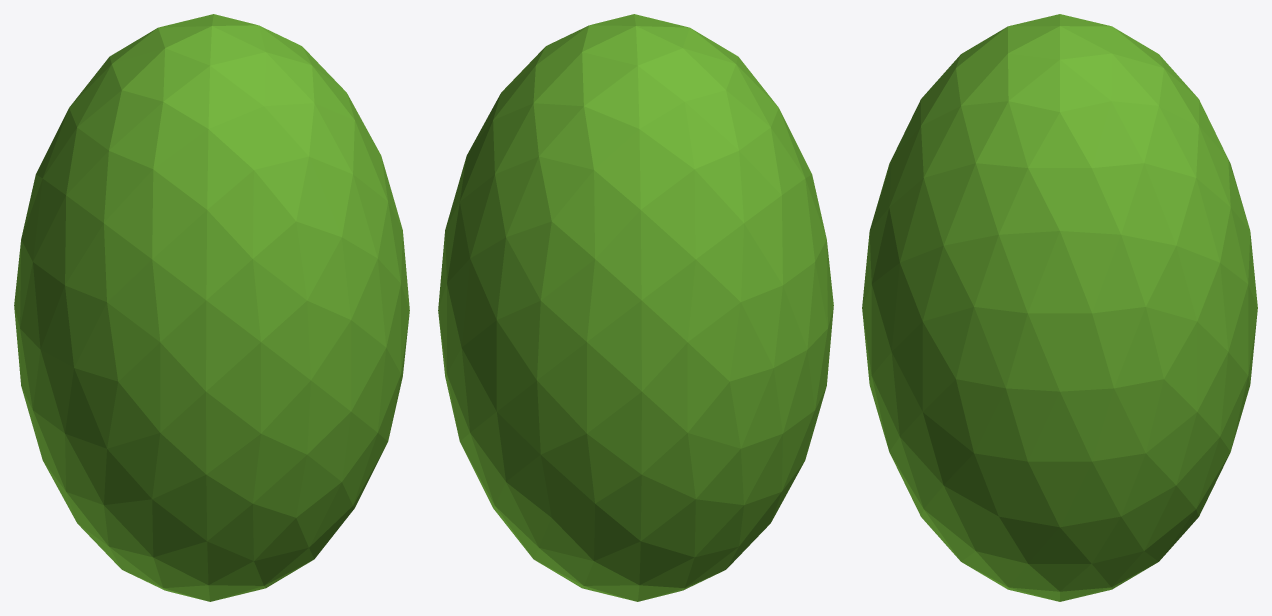
The model's file is tech_149.glb.
3 views of the same model, side by side, from view 1: azimuth 30°, elevation 25°; view 2: azimuth 150°, elevation 25°; view 3: azimuth 270°, elevation 25° (orthographic).
Visible parts, largest first — view 1: world; view 2: world; view 3: world.
Boxes of the visible parts, <box> form: world: <box>14,14,409,601</box>; world: <box>438,14,833,601</box>; world: <box>862,14,1257,601</box>.
Size of the model in its own units: 1.05 by 1.65 by 1.05.
